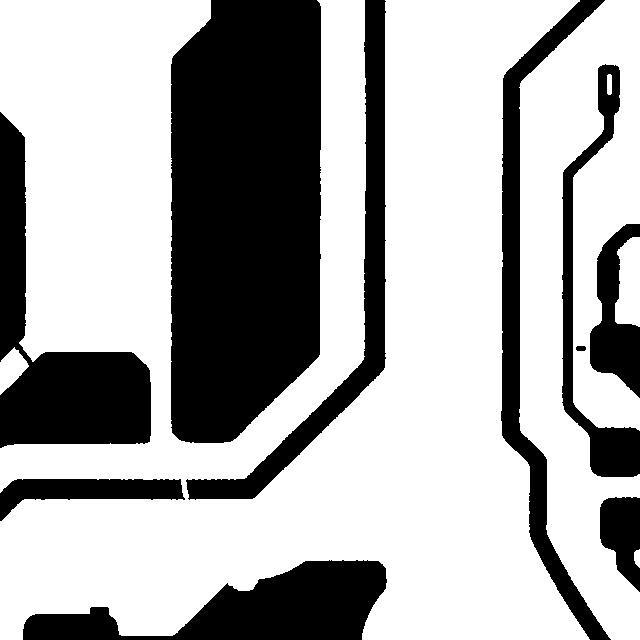copper: (566, 336, 595, 360)
mousebite: (218, 562, 268, 600)
open: (171, 461, 198, 508)
pin-hole: (597, 64, 621, 104)
short: (0, 330, 49, 384)
spur: (80, 597, 118, 628)
